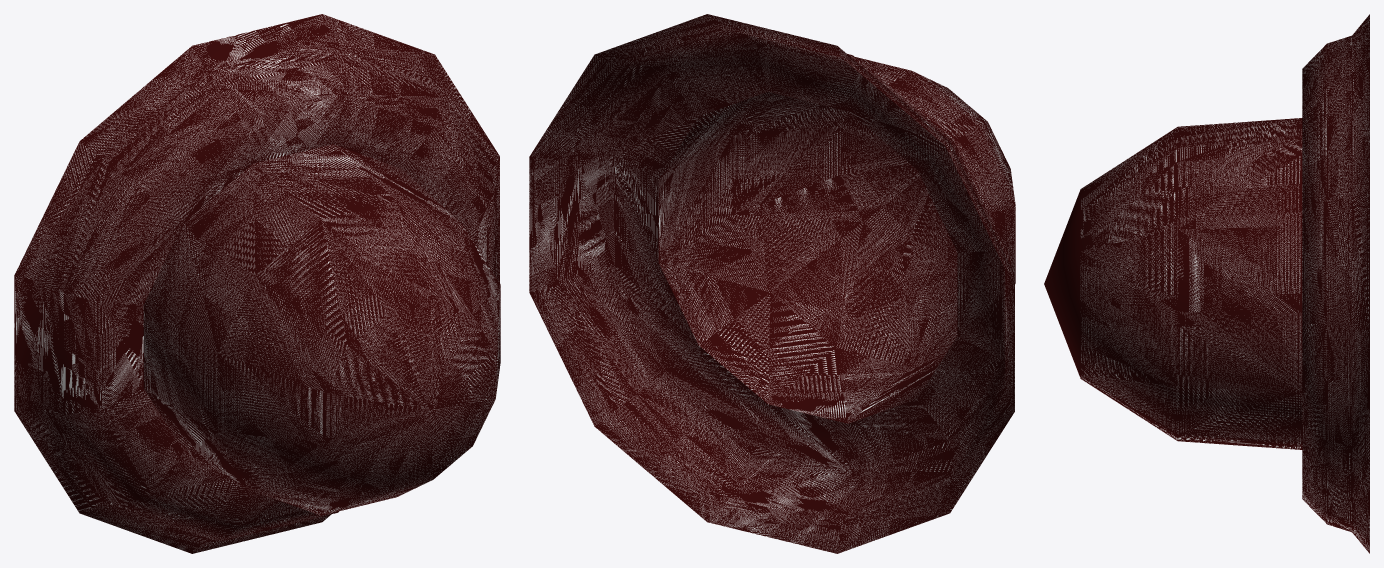
The model's file is original-40.obj.
3 views of the same model, side by side, from view 1: azimuth 30°, elevation 25°; view 2: azimuth 150°, elevation 25°; view 3: azimuth 270°, elevation 25° (orthographic). The views are drawn at different scales.
Visible parts, largest first — view 1: mesh24/mesh24-geometry#mesh24-geometry; view 2: mesh24/mesh24-geometry#mesh24-geometry; view 3: mesh24/mesh24-geometry#mesh24-geometry.
Part boxes in pixels (x1,y1,x2,y2): mesh24/mesh24-geometry#mesh24-geometry: [14, 14, 500, 553]; mesh24/mesh24-geometry#mesh24-geometry: [529, 14, 1015, 553]; mesh24/mesh24-geometry#mesh24-geometry: [1044, 14, 1369, 553].
Bounding box in the file's own units: 0.0193 × 0.0193 × 0.0119.
